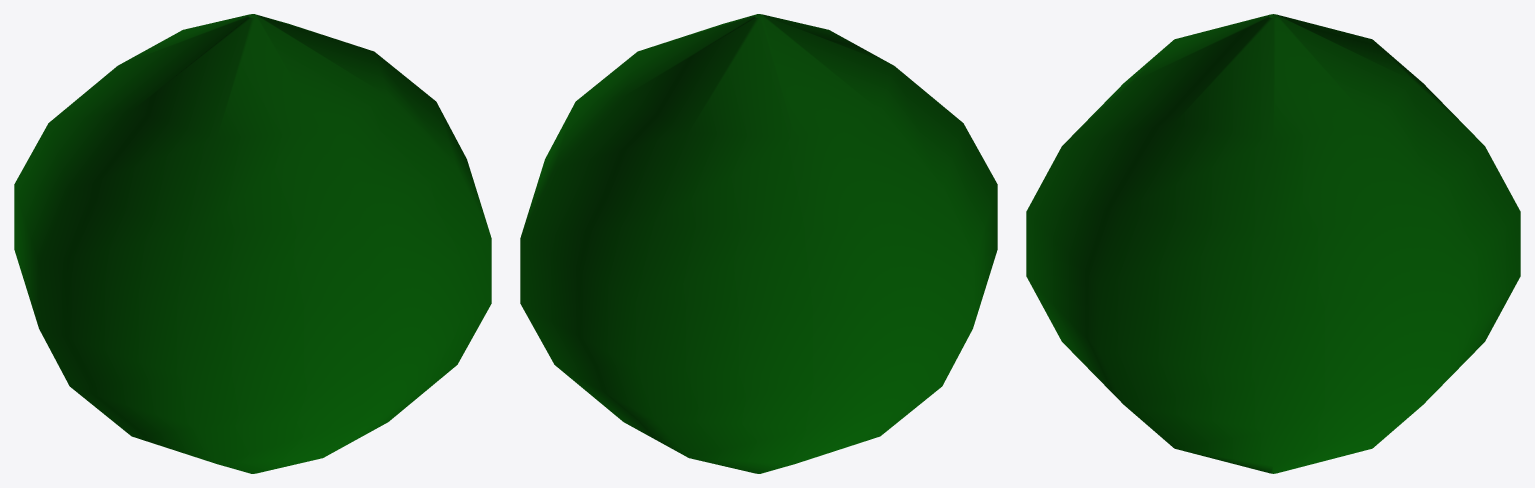
File: save_shrine_core.glb
3 renders of one model, left to right at view 1: azimuth 30°, elevation 25°; view 2: azimuth 150°, elevation 25°; view 3: azimuth 270°, elevation 25°, orthographic.
Parts seen in each view (by area): view 1: save_shrine_core; view 2: save_shrine_core; view 3: save_shrine_core.
Boxes of the visible parts, bbox=[...] form: save_shrine_core: bbox=[14, 14, 491, 473]; save_shrine_core: bbox=[520, 14, 997, 473]; save_shrine_core: bbox=[1026, 14, 1520, 473].
Size of what is drawn, in the model's own units: 0.393 by 0.4 by 0.393.
